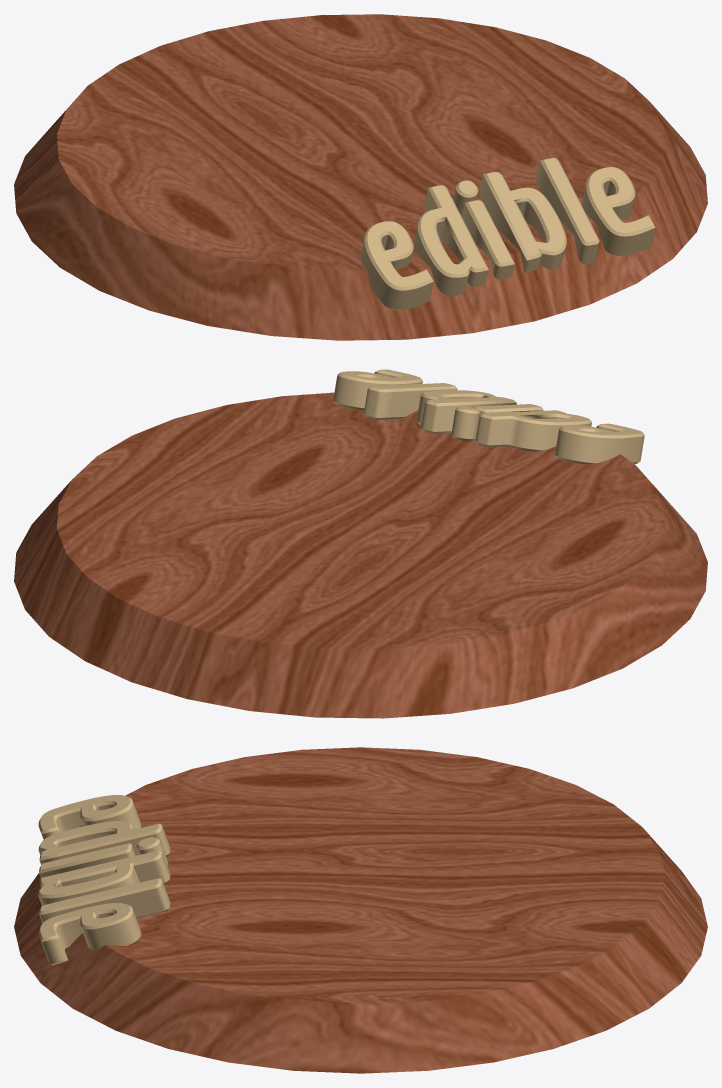
File: Wand-Base-Edible.fbx
3 views of the same model, one above another, from view 1: azimuth 30°, elevation 25°; view 2: azimuth 150°, elevation 25°; view 3: azimuth 270°, elevation 25° (orthographic).
Parts seen in each view (by area): view 1: Cylinder; view 2: Cylinder; view 3: Cylinder.
Part boxes in pixels (bbox=[...]): Cylinder: bbox=[14, 14, 707, 340]; Cylinder: bbox=[14, 369, 707, 718]; Cylinder: bbox=[14, 747, 707, 1073].
Bounding box in the file's own units: 28.9 × 4.06 × 28.9.
2 materials, 1 textured.
